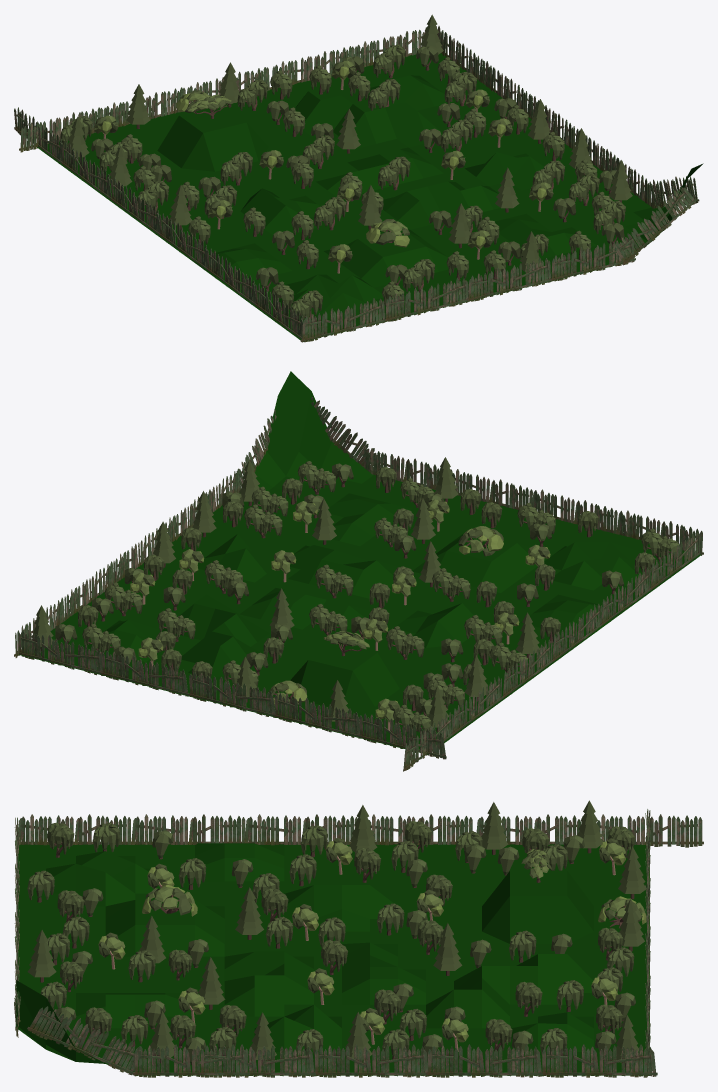
File: final map.glb
The picture shows the model from 3 angles, top to bottom: view 1: azimuth 30°, elevation 25°; view 2: azimuth 150°, elevation 25°; view 3: azimuth 270°, elevation 25°; orthographic projection. The views are drawn at different scales.
Parts seen in each view (by area): view 1: Ground-col, Box006__0, Box006__0.001, Box006__0.003, Box006__0.020, Box006__0.002, Box006__0.010, Box006__0.008, Box006__0.007, Box006__0.014, Box006__0.005, Box006__0.004 (+39 smaller); view 2: Ground-col, Box006__0.011, Box006__0.014, Box006__0.010, Box006__0.015, Box006__0.013, Box006__0, Box006__0.003, Box006__0.002, Box006__0.001, Box006__0.020, Box006__0.005 (+33 smaller); view 3: Ground-col, Box006__0.017, Box006__0.018, Box006__0.012, Box006__0.019, Box006__0.016, Box006__0.007, Box006__0.021, Box006__0.004, Box006__0.009, Box006__0.006, Box006__0.005 (+74 smaller).
Part boxes in pixels (box(x1,y1,x2,y2)): Ground-col: box(37, 53, 703, 341); Box006__0: box(384, 277, 468, 321); Box006__0.001: box(300, 298, 385, 342); Box006__0.003: box(467, 257, 550, 301); Box006__0.020: box(615, 186, 696, 265); Box006__0.002: box(550, 237, 635, 281); Box006__0.010: box(103, 87, 185, 126); Box006__0.008: box(61, 142, 111, 199); Box006__0.007: box(206, 248, 255, 304); Box006__0.014: box(271, 46, 354, 89); Box006__0.005: box(110, 178, 160, 234); Box006__0.004: box(159, 213, 207, 269); Ground-col: box(19, 371, 700, 754); Box006__0.011: box(188, 672, 275, 717); Box006__0.014: box(100, 650, 188, 696); Box006__0.010: box(274, 693, 361, 738); Box006__0.015: box(18, 630, 103, 675); Box006__0.013: box(359, 713, 446, 759); Box006__0: box(531, 489, 617, 533); Box006__0.003: box(450, 469, 532, 509); Box006__0.002: box(361, 448, 441, 489); Box006__0.001: box(616, 510, 703, 555); Box006__0.020: box(311, 397, 380, 471); Box006__0.005: box(502, 639, 552, 698); Ground-col: box(16, 843, 649, 1075); Box006__0.017: box(540, 1044, 657, 1077); Box006__0.018: box(426, 1044, 543, 1077); Box006__0.012: box(313, 1044, 428, 1077); Box006__0.019: box(27, 1006, 141, 1075); Box006__0.016: box(199, 1044, 315, 1077); Box006__0.007: box(131, 814, 245, 844); Box006__0.021: box(132, 1044, 249, 1077); Box006__0.004: box(244, 814, 357, 845); Box006__0.009: box(597, 814, 703, 847); Box006__0.006: box(16, 814, 131, 845); Box006__0.005: box(369, 814, 472, 845).
Bounding box in the file's own units: 130 × 24.68 × 156.
Materials: 3 (2 with a texture image).
